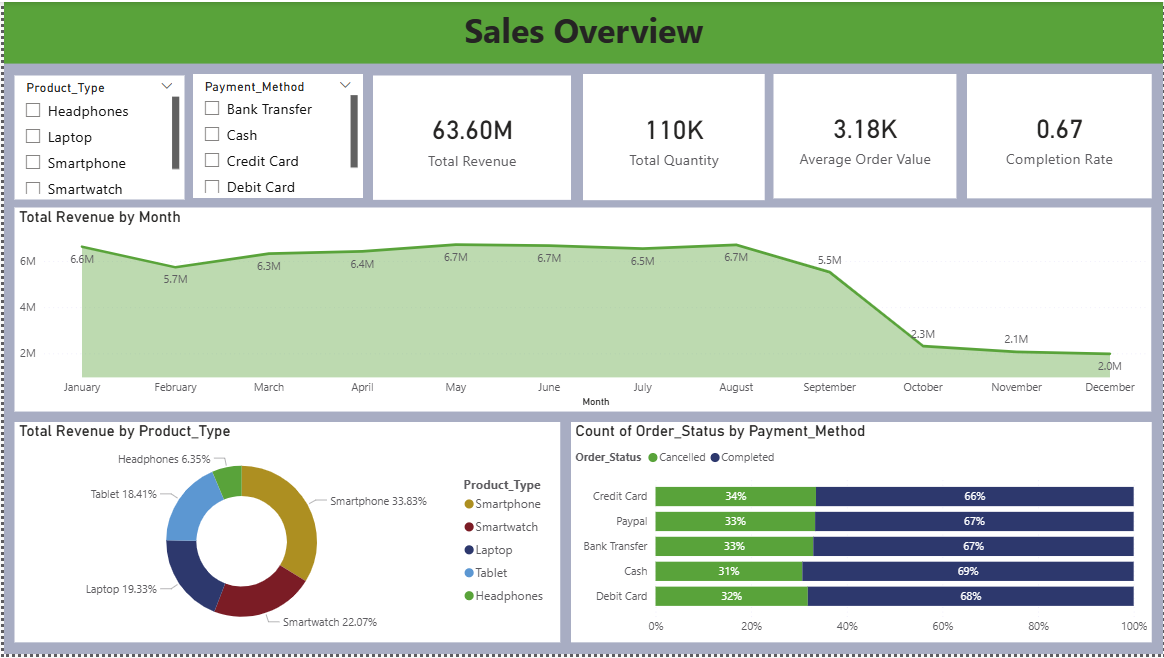

The dashboard page shown, as its layout file describes it:
{"tool":"powerbi","page":{"name":"Sales Overview","canvas":[1280,720],"ordinal":0},"visuals":[{"type":"textbox","box":[0,0,1280.5,67.9],"z":0},{"type":"card","fields":{"Values":["Electronic_sales.Total Revenue"]},"box":[407.5,81.2,218.7,137.5],"z":1000},{"type":"card","fields":{"Values":["Electronic_sales.Total Quantity"]},"box":[639.4,79.5,200.4,139.1],"z":2000},{"type":"card","fields":{"Values":["Electronic_sales.Average Order Value"]},"box":[849.8,79.5,202.1,137.5],"z":3000},{"type":"card","fields":{"Values":["Electronic_sales.Completion Rate"]},"box":[1063.5,79.5,203.7,137.5],"z":4000},{"type":"lineChart","fields":{"Category":["Electronic_sales.Purchase_Date.Variation.Date Hierarchy.Month"],"Y":["Electronic_sales.Total Revenue"]},"box":[11.6,226.9,1255.6,225.3],"z":5000},{"type":"donutChart","fields":{"Category":["Electronic_sales.Product_Type"],"Y":["Electronic_sales.Total Revenue"]},"box":[11.6,463.8,603,243.5],"z":6000},{"type":"hundredPercentStackedBarChart","title":"Count of Order_Status by Payment_Method ","fields":{"Category":["Electronic_sales.Payment_Method"],"Series":["Electronic_sales.Order_Status"],"Y":["CountNonNull(Electronic_sales.Order_Status)"]},"box":[626.1,463.8,641.1,243.5],"z":7000},{"type":"slicer","fields":{"Values":["Electronic_sales.Product_Type"]},"box":[11.6,81.2,187.2,135.8],"z":8000},{"type":"slicer","fields":{"Values":["Electronic_sales.Payment_Method"]},"box":[208.7,79.5,187.2,135.8],"z":9000}]}

Visuals, with their boxes in screenshot pixels (x1, y1, x2, y2), scaled from the page's 1280x720 canvas onto the 1164x658 screenshot:
textbox: Rect(0, 0, 1163, 62)
card - Electronic_sales.Total Revenue: Rect(371, 74, 569, 200)
card - Electronic_sales.Total Quantity: Rect(581, 73, 764, 200)
card - Electronic_sales.Average Order Value: Rect(773, 73, 957, 198)
card - Electronic_sales.Completion Rate: Rect(967, 73, 1152, 198)
lineChart - Electronic_sales.Purchase_Date.Variation.Date Hierarchy.Month x Electronic_sales.Total Revenue: Rect(11, 207, 1152, 413)
donutChart - Electronic_sales.Product_Type x Electronic_sales.Total Revenue: Rect(11, 424, 559, 646)
"Count of Order_Status by Payment_Method " hundredPercentStackedBarChart: Rect(569, 424, 1152, 646)
slicer - Electronic_sales.Product_Type: Rect(11, 74, 181, 198)
slicer - Electronic_sales.Payment_Method: Rect(190, 73, 360, 197)
